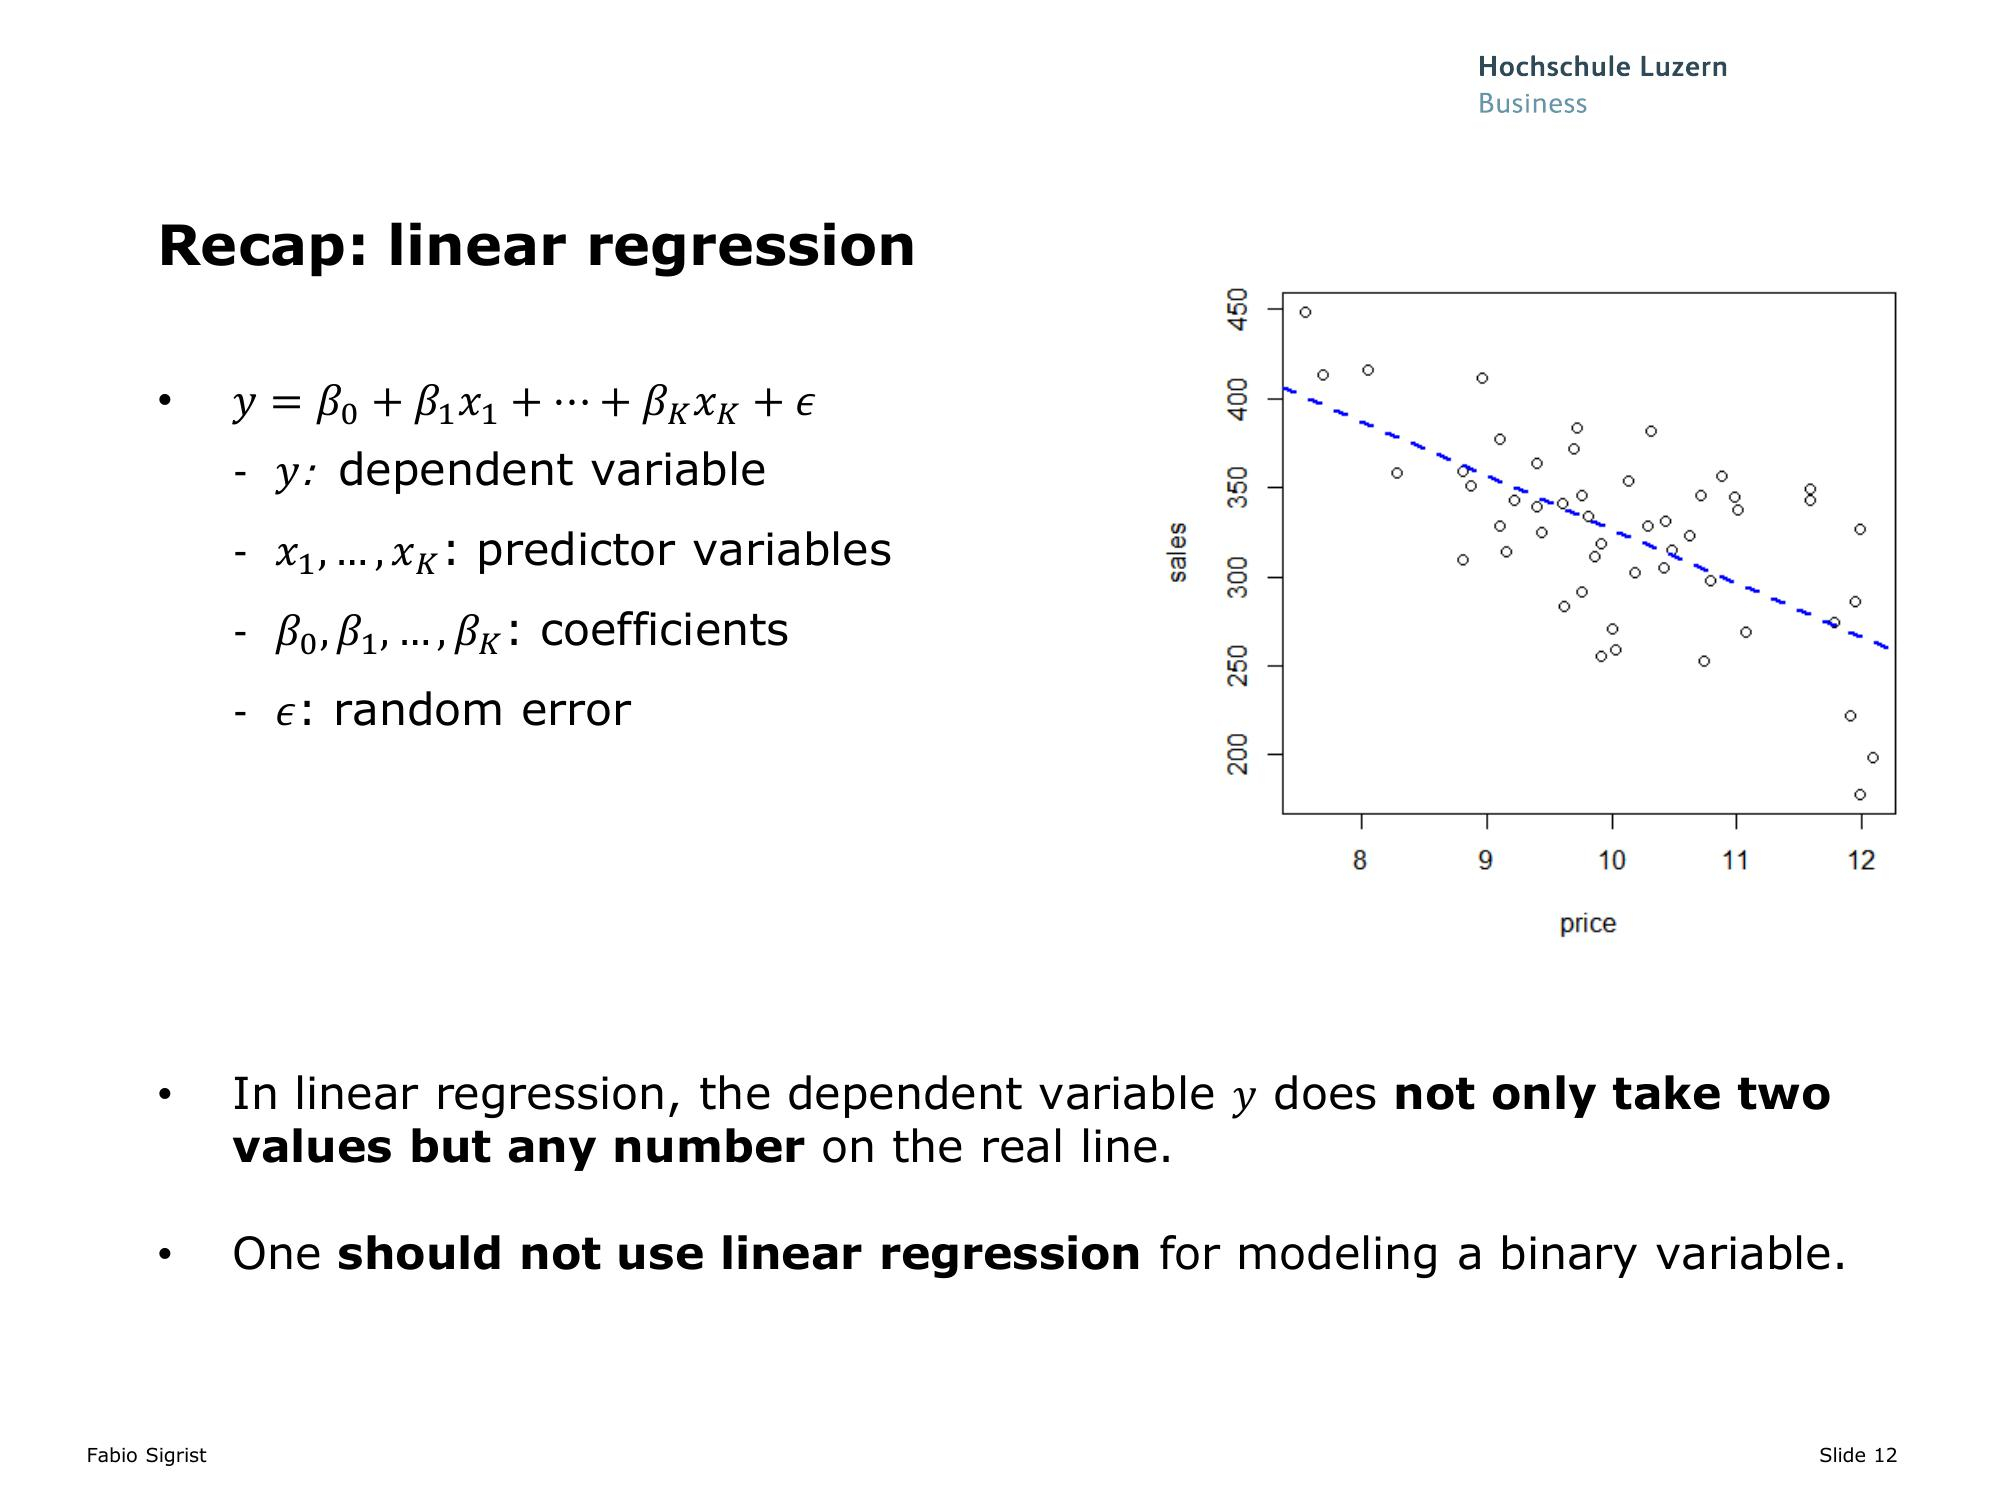Title: (154, 210, 928, 295)
